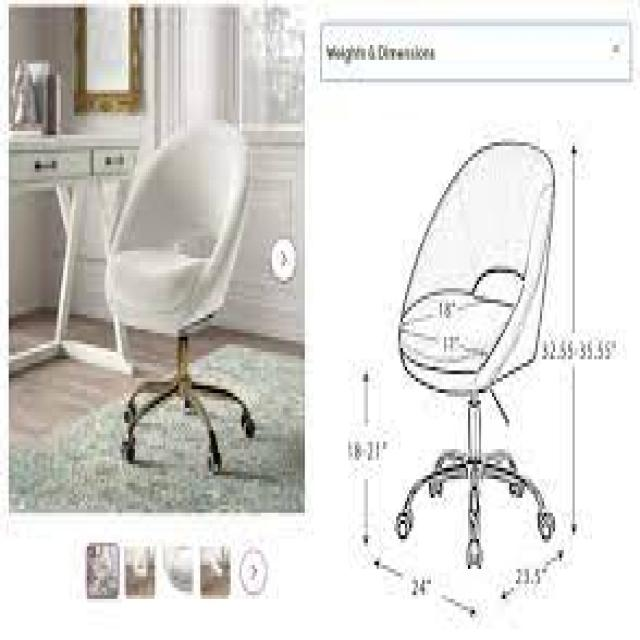chair: (72, 106, 268, 496)
